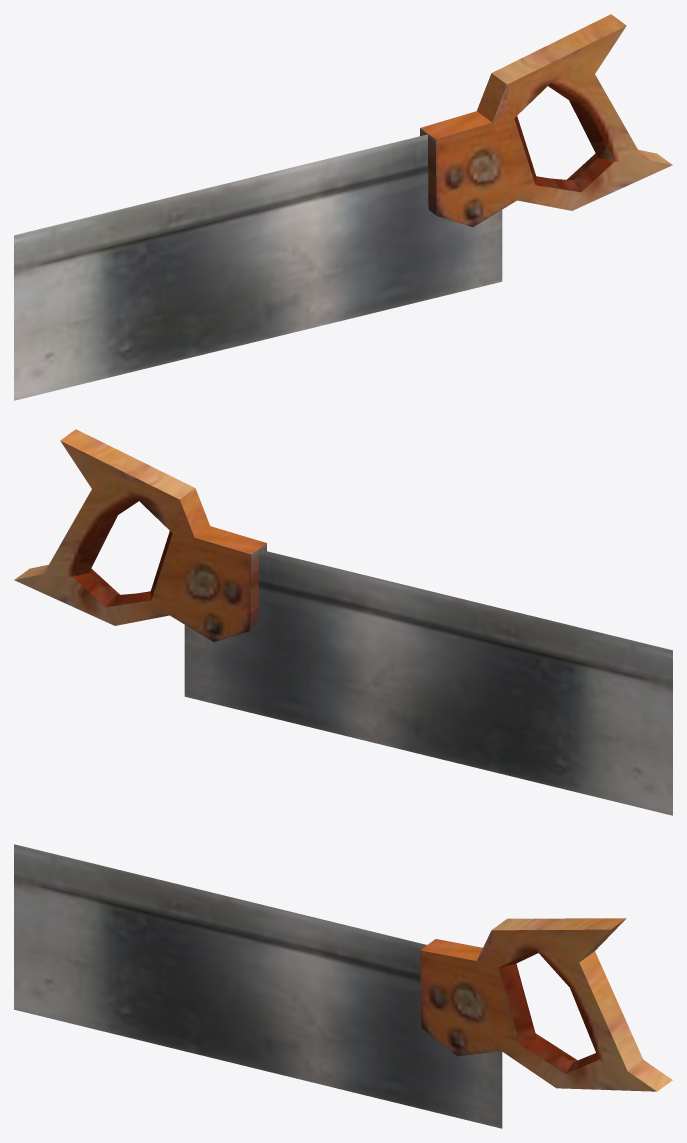
3 views of the same model, one above another, from view 1: azimuth 30°, elevation 25°; view 2: azimuth 150°, elevation 25°; view 3: azimuth 330°, elevation 25° (orthographic).
Visible parts, largest first — view 1: BackSaw; view 2: BackSaw; view 3: BackSaw.
Boxes of the visible parts, x1,y1,x2,y2 form: BackSaw: [14, 14, 672, 400]; BackSaw: [14, 429, 672, 815]; BackSaw: [14, 844, 672, 1128].
Bounding box in the file's own units: 2.72 × 0.9313 × 0.1138.
Materials: 1 (1 with a texture image).
